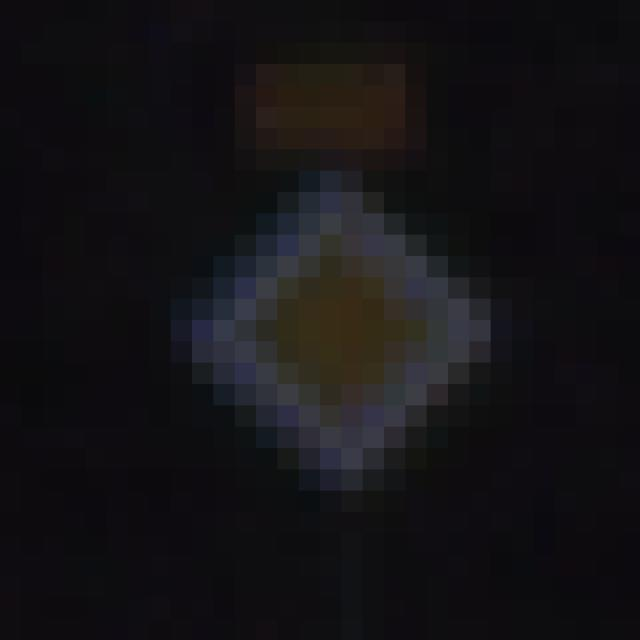Main Road: (129, 108, 534, 534)
